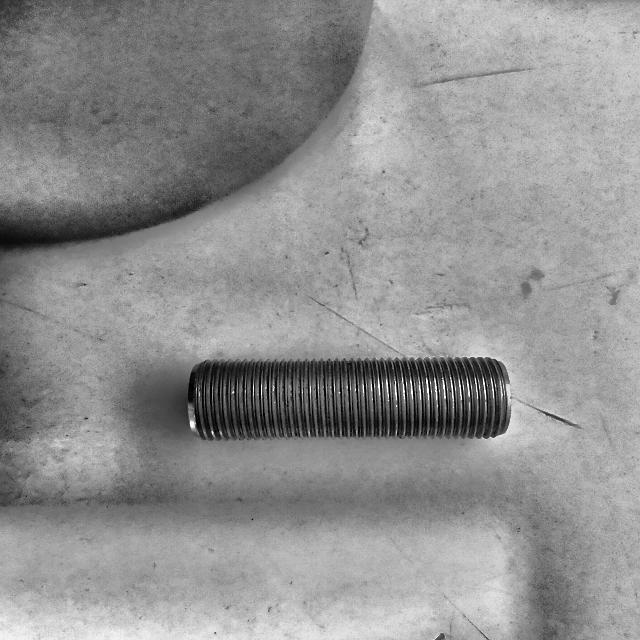Normal: (189, 356, 511, 442)
